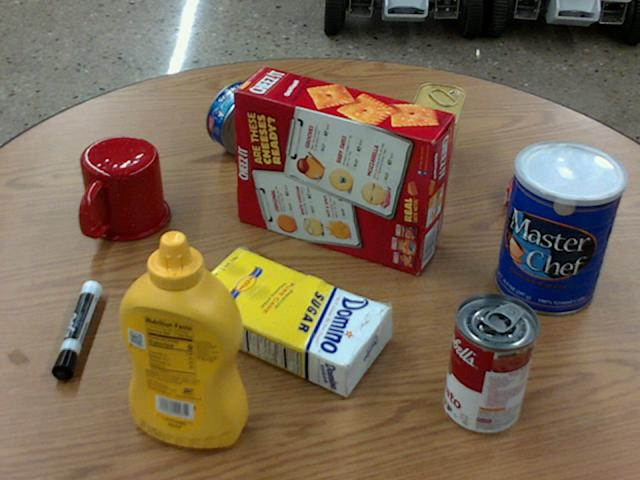cracker_box: (233, 68, 452, 274)
gelatin_box: (506, 151, 588, 220)
large_marker: (50, 280, 100, 377)
master_chef_can: (495, 140, 625, 314)
mug: (79, 136, 169, 240)
mustard_bottle: (116, 230, 244, 446)
potted_meat_can: (405, 83, 466, 185)
sugar_box: (182, 246, 392, 397)
tomato_soup_can: (443, 293, 538, 434)
tuna_fish_can: (205, 81, 277, 155)
